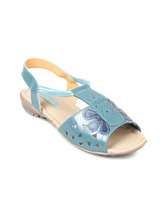shoes: (12, 55, 152, 157)
